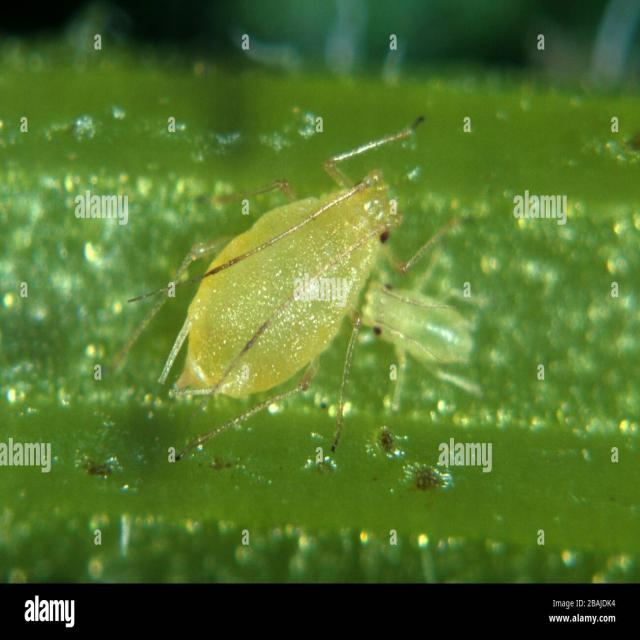Aphid-Grown-: (138, 146, 412, 441), (344, 241, 505, 415)
